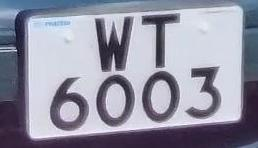0: (91, 71, 140, 133), (139, 67, 185, 128)
3: (181, 60, 229, 127)
6: (43, 70, 95, 137)
T: (135, 9, 193, 74)
W: (86, 9, 138, 78)
